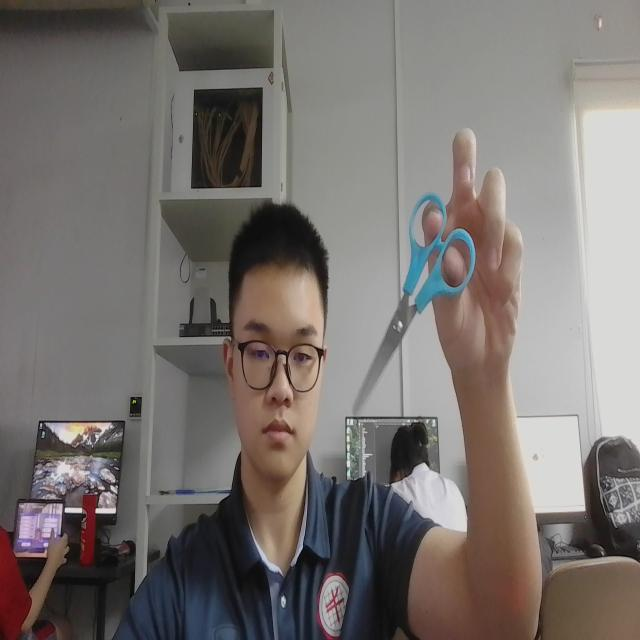scissors: (342, 180, 480, 432)
